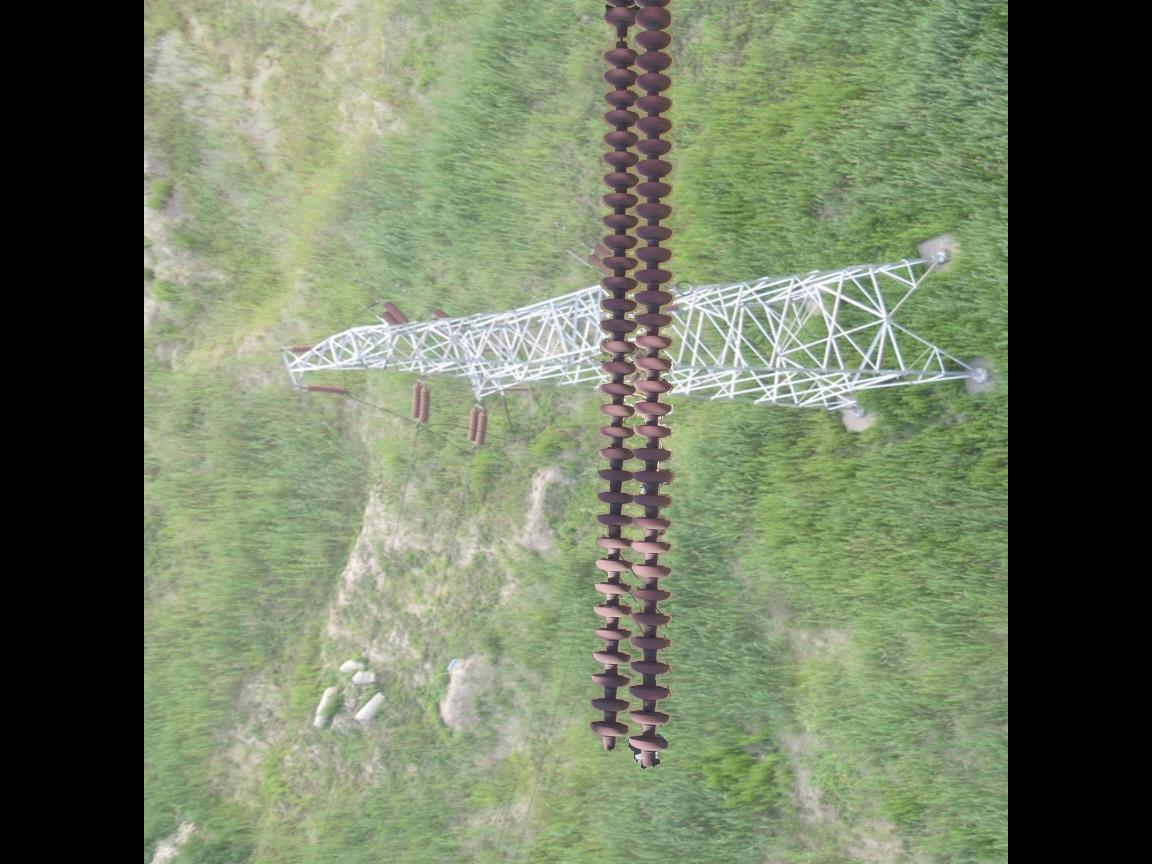insulator: (587, 1, 679, 769)
insulator_stringdrop: (599, 3, 639, 70)
